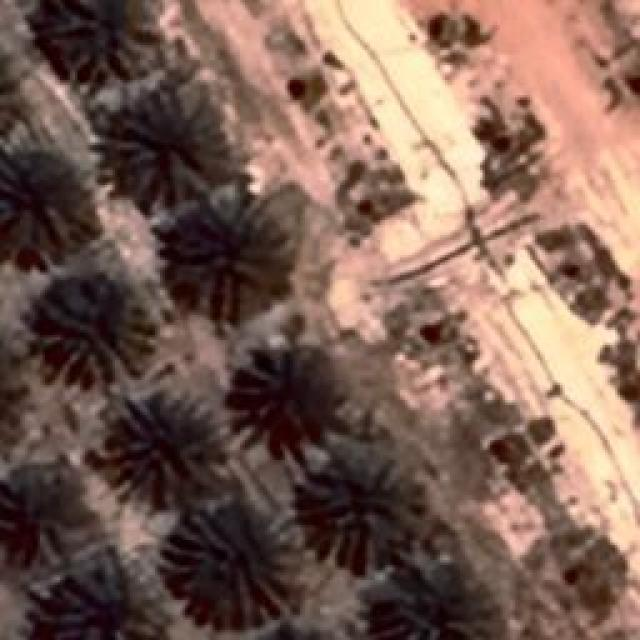PalmTree: (12, 115, 75, 389), (102, 394, 222, 508), (175, 510, 295, 622), (107, 94, 220, 208), (38, 280, 152, 382), (370, 552, 500, 638), (308, 461, 406, 564), (180, 206, 282, 304), (40, 0, 158, 78), (52, 567, 155, 640), (8, 464, 74, 562), (252, 359, 318, 439), (238, 618, 352, 640), (0, 37, 21, 145), (237, 624, 361, 640), (0, 325, 16, 443), (0, 35, 15, 142)
